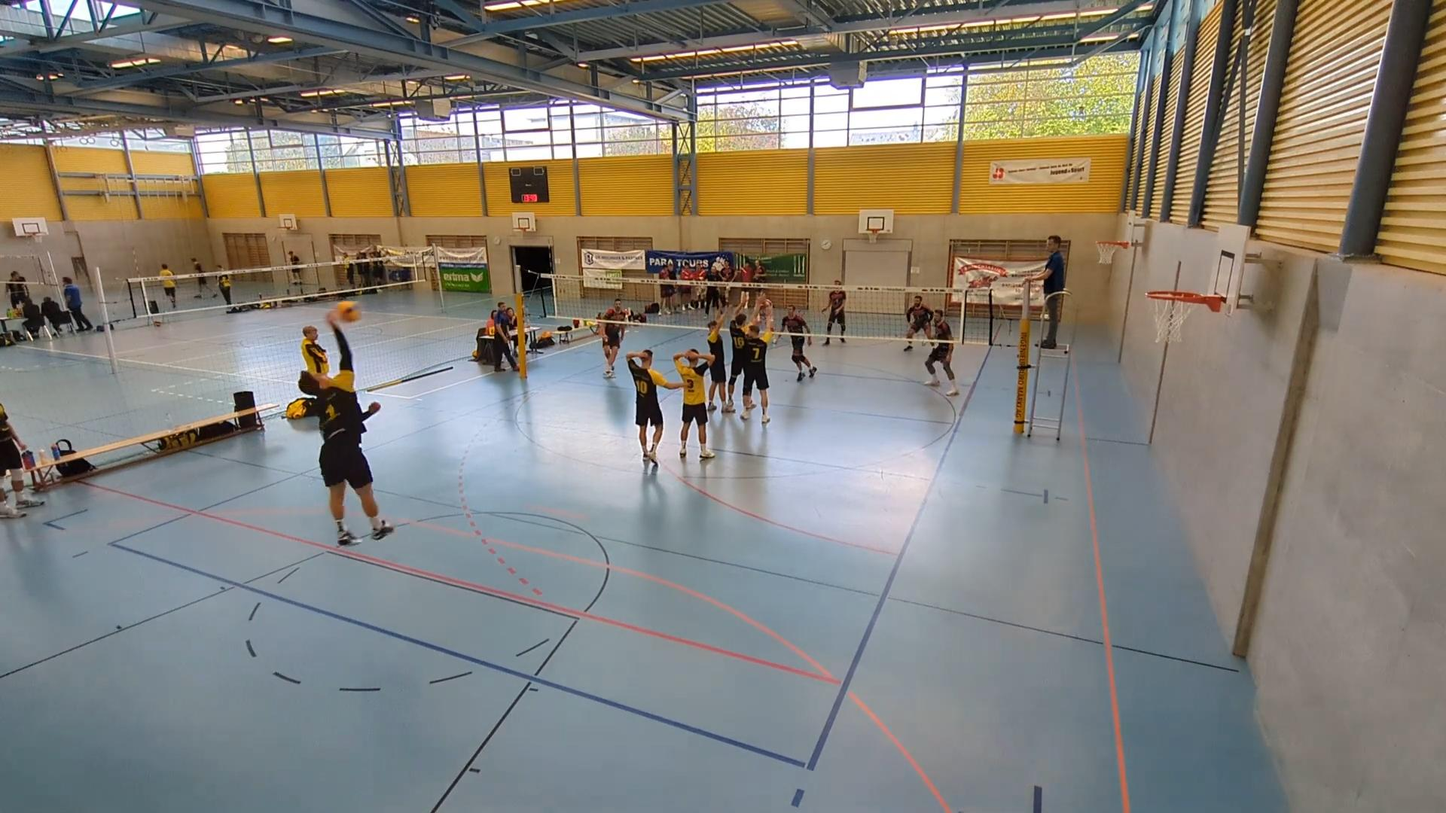battuta: (293, 315, 399, 557)
